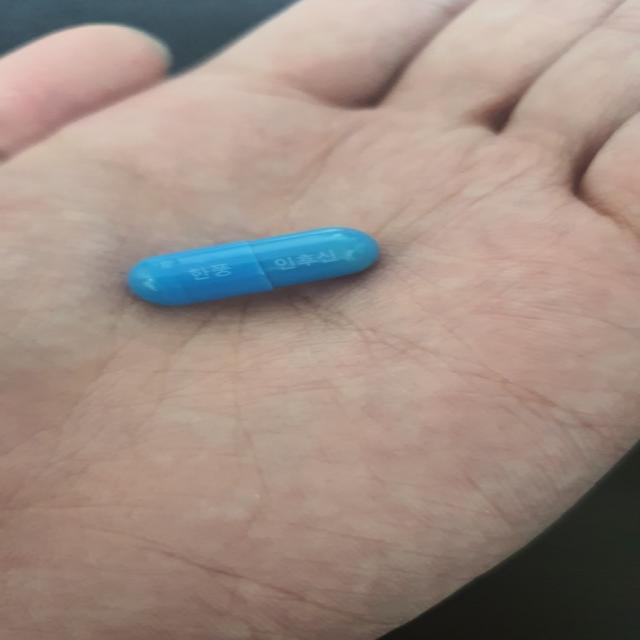pill: (133, 221, 380, 312)
